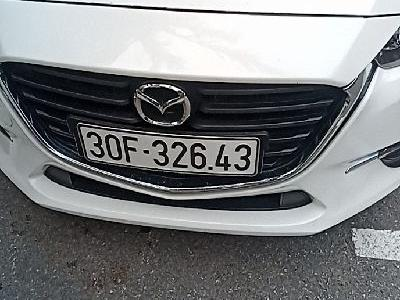lisence: (77, 122, 259, 178)
